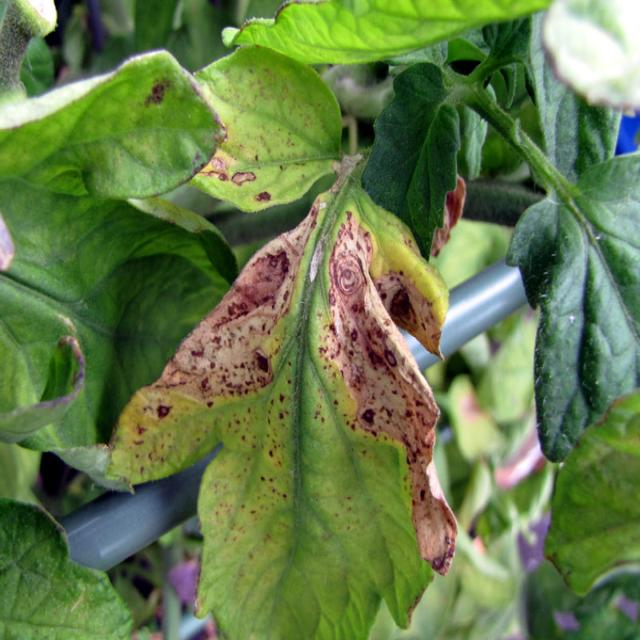Early_blight: (110, 194, 320, 479), (331, 209, 459, 581), (198, 152, 274, 204), (433, 175, 467, 254)
